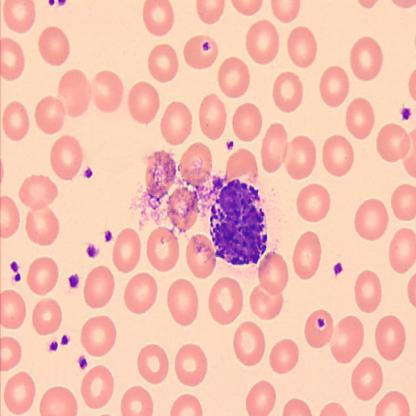Basophil: (206, 176, 272, 270)
